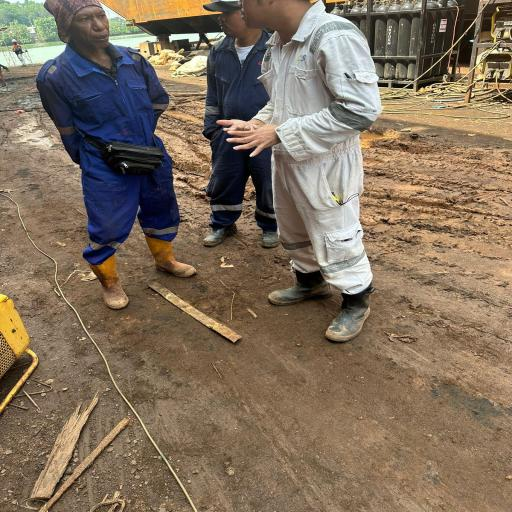safety_shoe: (322, 285, 376, 347), (141, 235, 200, 281), (86, 256, 134, 312), (266, 268, 336, 306), (198, 221, 239, 247), (256, 225, 281, 249)
